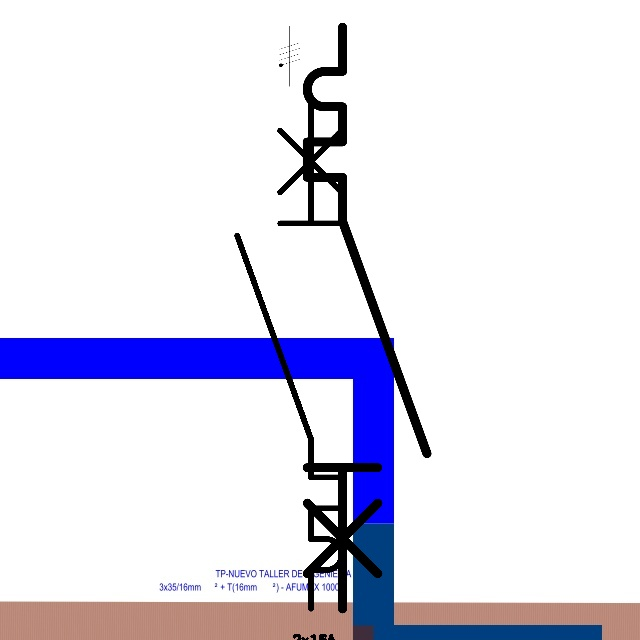interruptor_termomagnetico: (292, 12, 441, 623), (224, 86, 355, 622)
